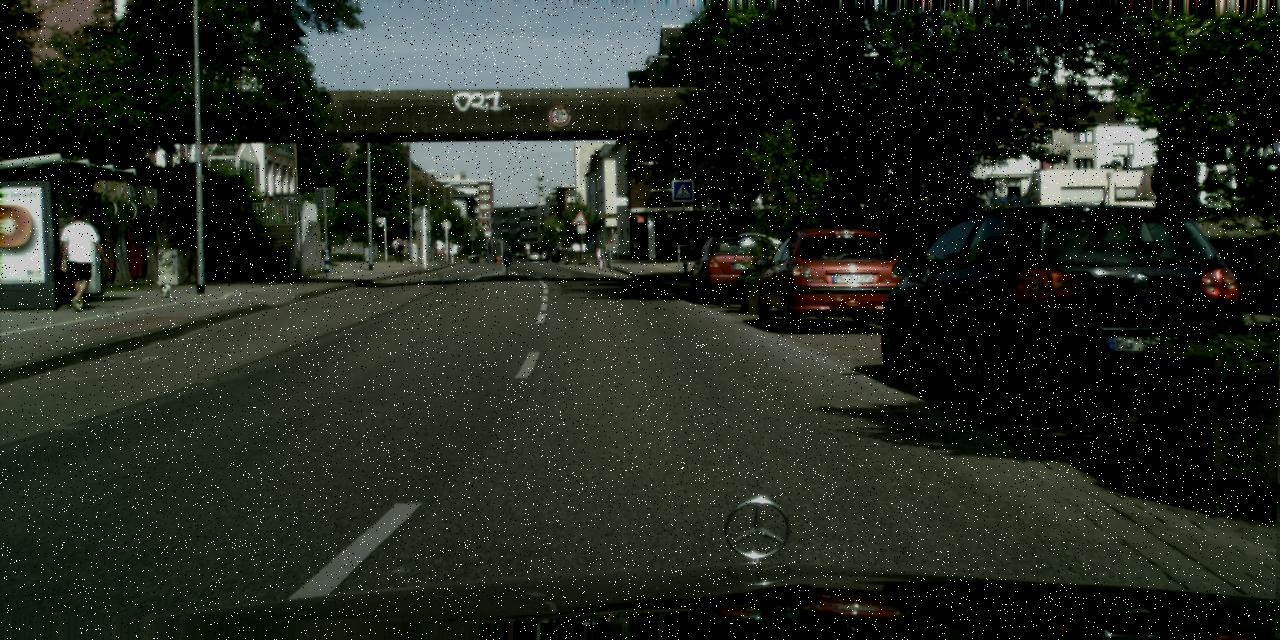ped: (59, 210, 98, 308), (391, 236, 405, 264)
